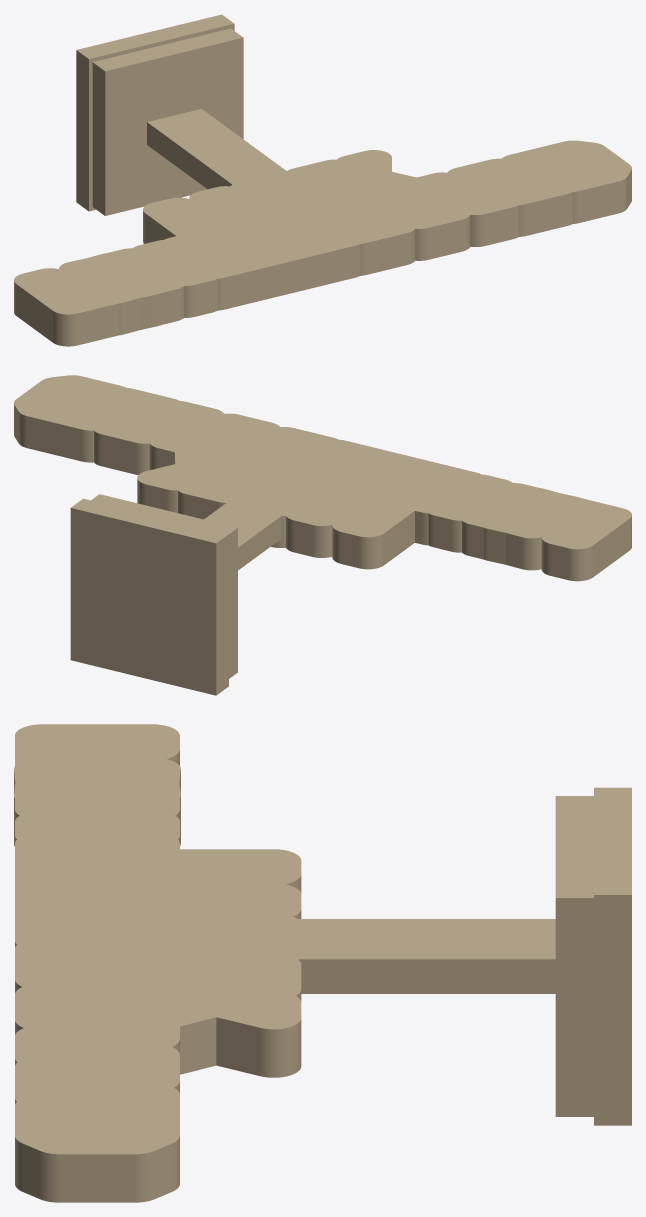
Rendered from fingerboard-park-sign.glb.
3 renders of one model, top to bottom at view 1: azimuth 30°, elevation 25°; view 2: azimuth 150°, elevation 25°; view 3: azimuth 270°, elevation 25°, orthographic. The views are drawn at different scales.
Visible parts, largest first — view 1: geometry_0; view 2: geometry_0; view 3: geometry_0.
Boxes of the visible parts, x1,y1,x2,y2 form: geometry_0: [14, 14, 631, 346]; geometry_0: [14, 375, 631, 695]; geometry_0: [14, 724, 631, 1202].
Size of the model in its own units: 80 by 20 by 48.6.
